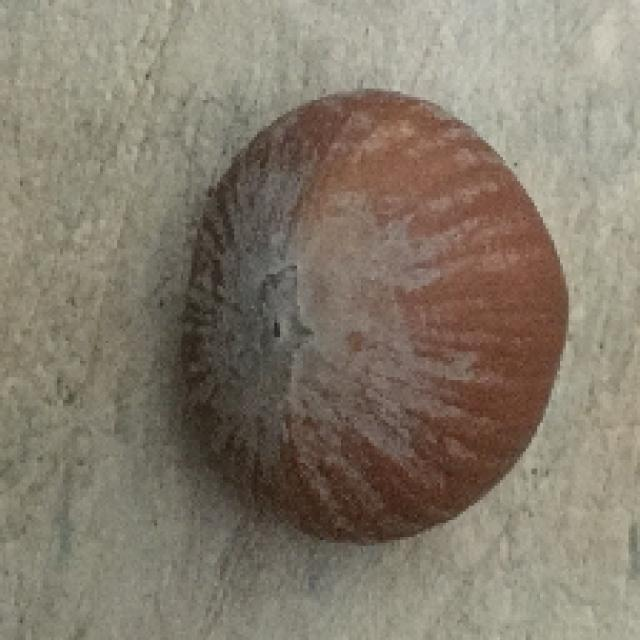qualityHazelnut: (171, 71, 572, 552)
